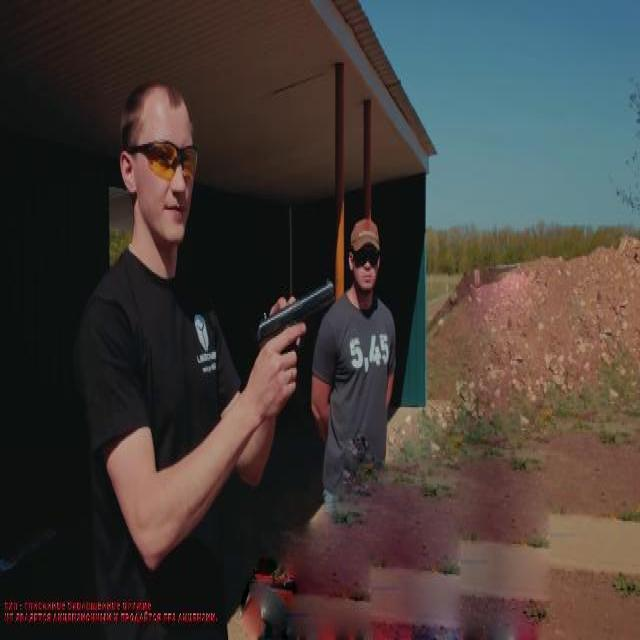pistol: (240, 278, 342, 428)
